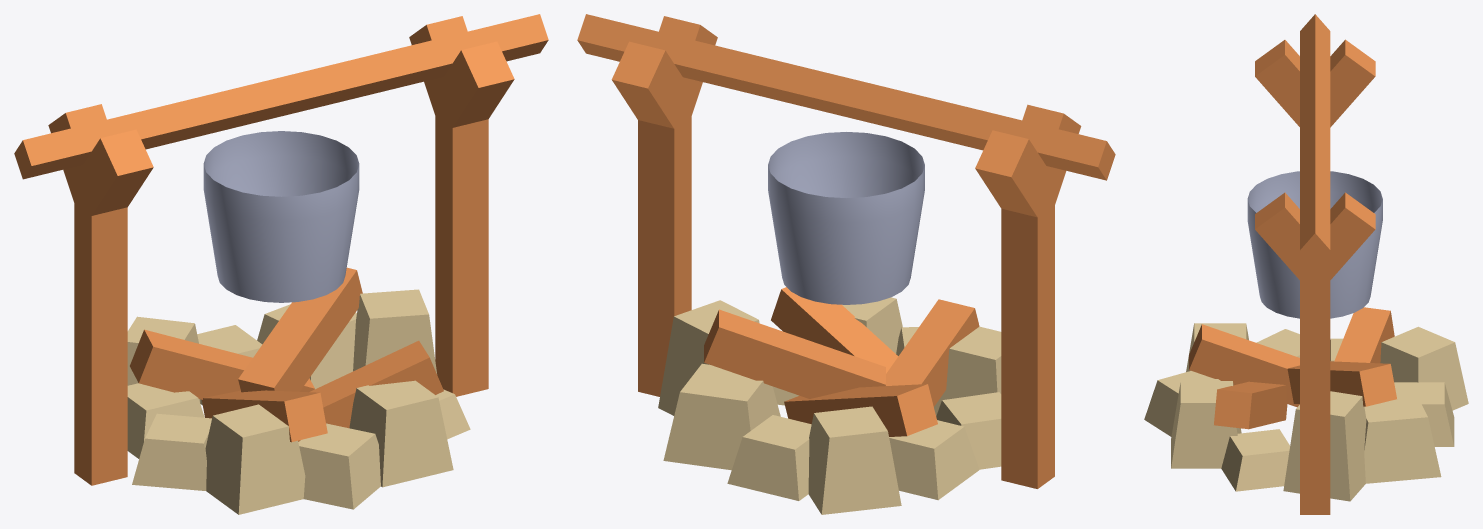
Rendered from campfire.dae.
3 renders of one model, left to right at view 1: azimuth 30°, elevation 25°; view 2: azimuth 150°, elevation 25°; view 3: azimuth 270°, elevation 25°, orthographic. The views are drawn at different scales.
Parts seen in each view (by area): view 1: campfire, rocks, bucket, wood; view 2: campfire, rocks, bucket, wood; view 3: rocks, campfire, wood, bucket.
Part boxes in pixels (x1=…): campfire: x1=14, y1=14, x2=548, y2=485; rocks: x1=127, y1=289, x2=470, y2=514; bucket: x1=203, y1=131, x2=359, y2=302; wood: x1=130, y1=267, x2=443, y2=442; campfire: x1=577, y1=14, x2=1115, y2=488; rocks: x1=658, y1=297, x2=1001, y2=514; bucket: x1=768, y1=132, x2=924, y2=304; wood: x1=704, y1=287, x2=979, y2=436; rocks: x1=1144, y1=323, x2=1468, y2=501; campfire: x1=1255, y1=14, x2=1375, y2=514; wood: x1=1189, y1=307, x2=1396, y2=429; bucket: x1=1247, y1=171, x2=1382, y2=318.
Bounding box in the file's own units: 0.43 × 0.2812 × 0.2692.
